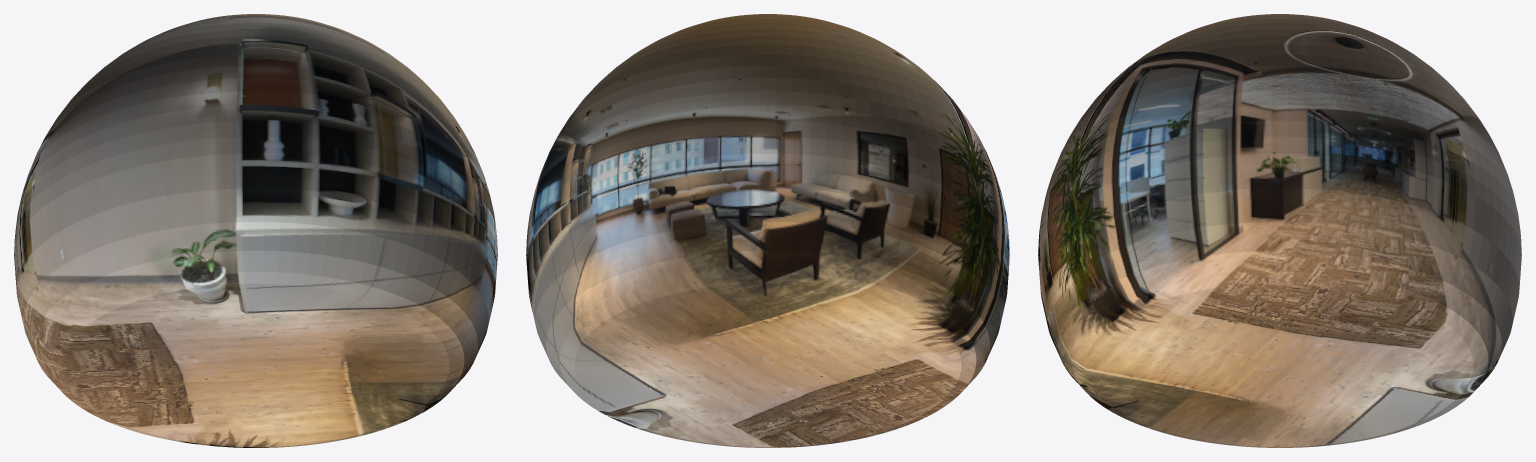
Rendered from sala.glb.
3 views of the same model, side by side, from view 1: azimuth 30°, elevation 25°; view 2: azimuth 150°, elevation 25°; view 3: azimuth 270°, elevation 25° (orthographic).
Size of the model in its own units: 2 by 1.5 by 2.
1 material, 1 textured.
